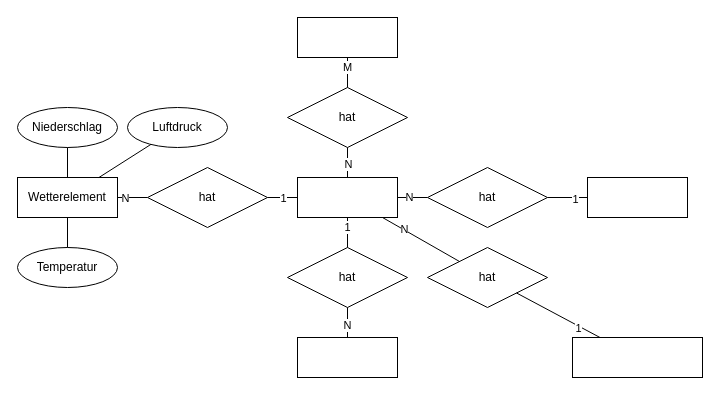
Some shapes in this 720 by 395 pixel diagram are drawn without their labels. The centre of each missing label's shape, as x and y in pixels:
"Messgerät" belongs at point (347, 357).
"Messstation" belongs at point (347, 197).
"Mitarbeiter" belongs at point (347, 37).
"Region" belongs at point (637, 197).
"Verarbeitungszentrum" belongs at point (637, 357).
